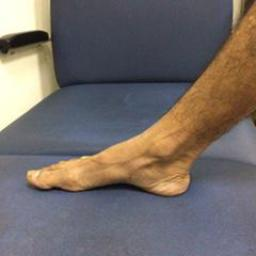Medial View -Right Foot-: (22, 100, 216, 209)
